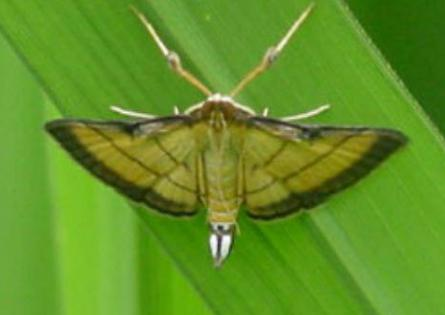pest: (42, 88, 413, 277)
